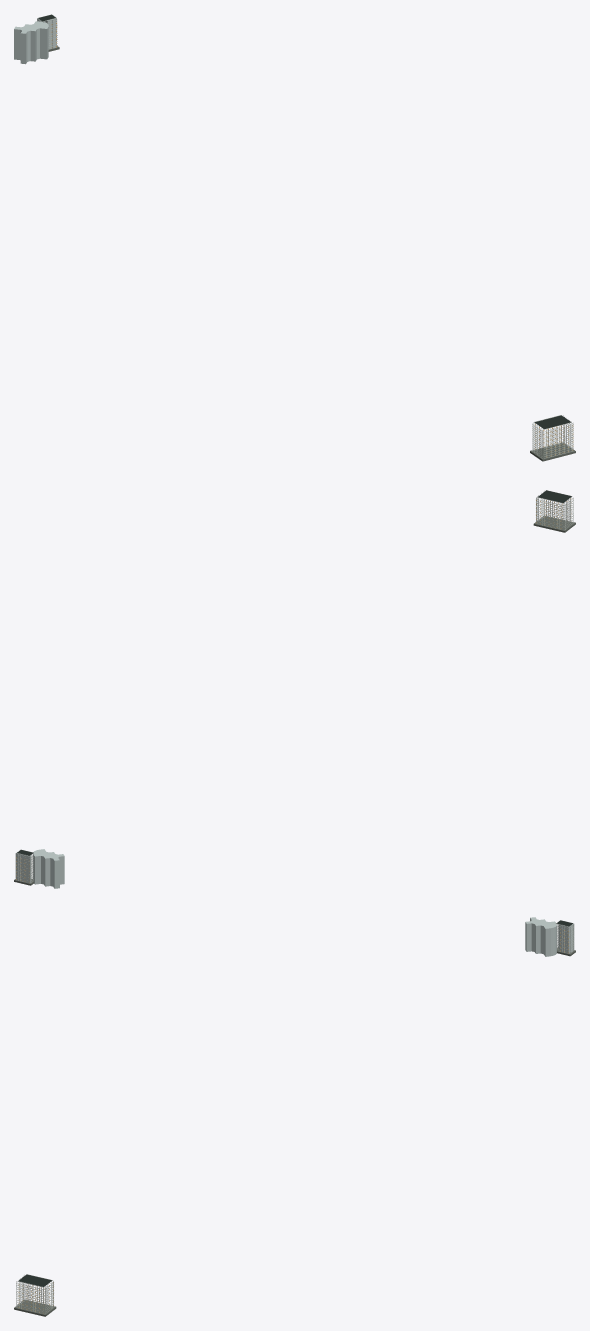
File: lite3-1.glb
3 views of the same model, one above another, from view 1: azimuth 30°, elevation 25°; view 2: azimuth 150°, elevation 25°; view 3: azimuth 330°, elevation 25° (orthographic). The views are drawn at different scales.
Visible parts, largest first — view 1: envelope, floor_bands, fins; view 2: envelope, floor_bands, fins; view 3: envelope, floor_bands, fins, podium.
Part boxes in pixels (x1=…): envelope: x1=14, y1=14, x2=56, y2=64; floor_bands: x1=37, y1=20, x2=573, y2=458; fins: x1=37, y1=16, x2=573, y2=457; envelope: x1=15, y1=849, x2=64, y2=888; floor_bands: x1=16, y1=497, x2=573, y2=883; fins: x1=18, y1=491, x2=573, y2=882; envelope: x1=525, y1=917, x2=574, y2=956; floor_bands: x1=16, y1=925, x2=573, y2=1313; fins: x1=16, y1=922, x2=573, y2=1313; podium: x1=14, y1=947, x2=575, y2=1316.
Bounding box in the file's own units: 201 × 99.5 × 3151.
